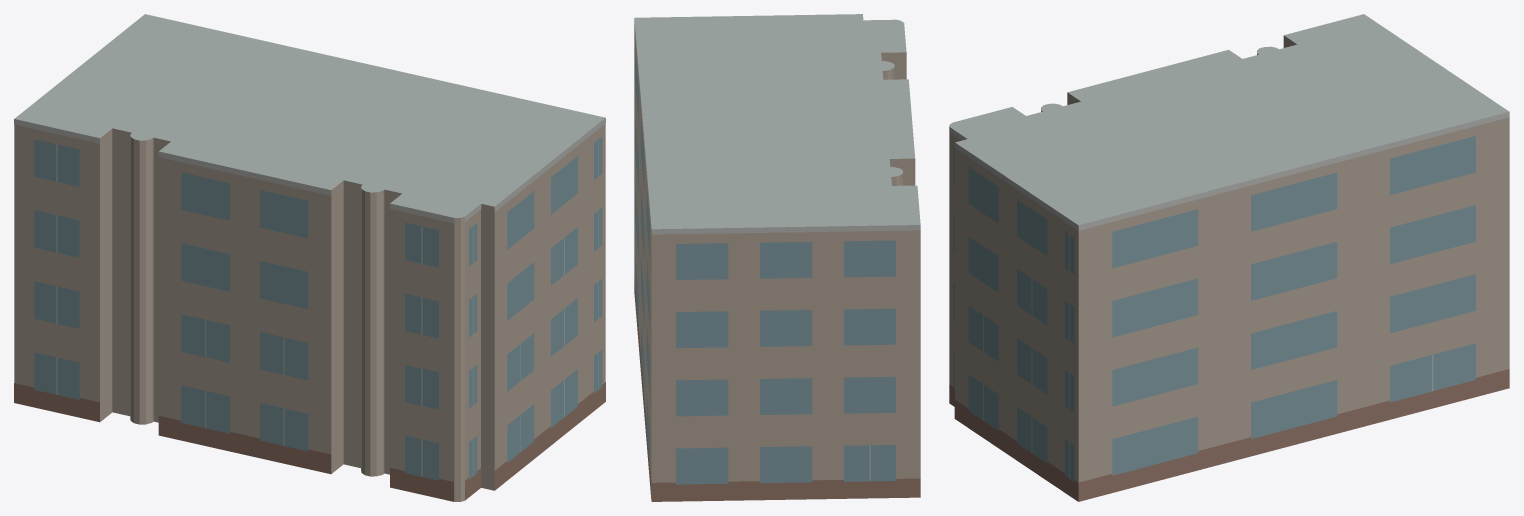
Rendered from survey-upis-32848237.glb.
3 renders of one model, left to right at view 1: azimuth 30°, elevation 25°; view 2: azimuth 150°, elevation 25°; view 3: azimuth 270°, elevation 25°, orthographic. The views are drawn at different scales.
Parts seen in each view (by area): view 1: survey-upis-32848237.tmp; view 2: survey-upis-32848237.tmp; view 3: survey-upis-32848237.tmp.
Part boxes in pixels (<box>): survey-upis-32848237.tmp: <box>14,14,605,501</box>; survey-upis-32848237.tmp: <box>634,14,920,501</box>; survey-upis-32848237.tmp: <box>949,14,1509,501</box>.
Size of the model in its own units: 20.18 by 12.3 by 22.59.
